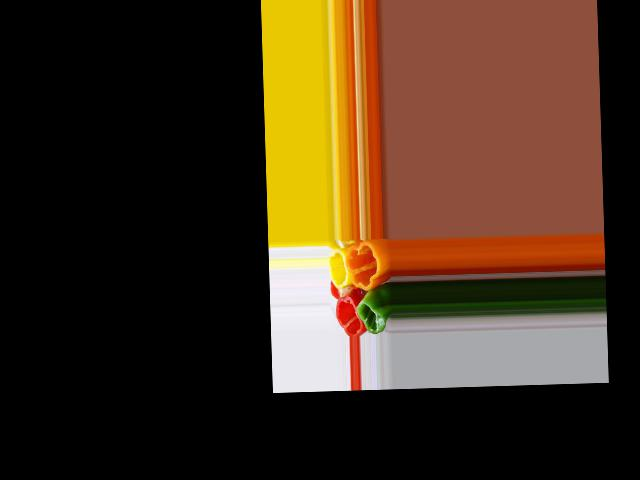bell_pepper: (334, 295, 361, 334)
